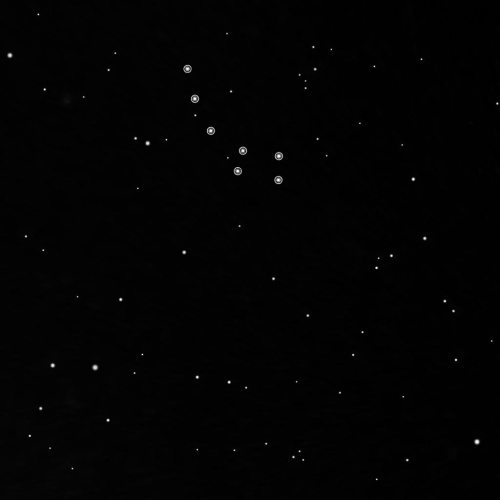ursa_minor: (176, 60, 295, 192)
